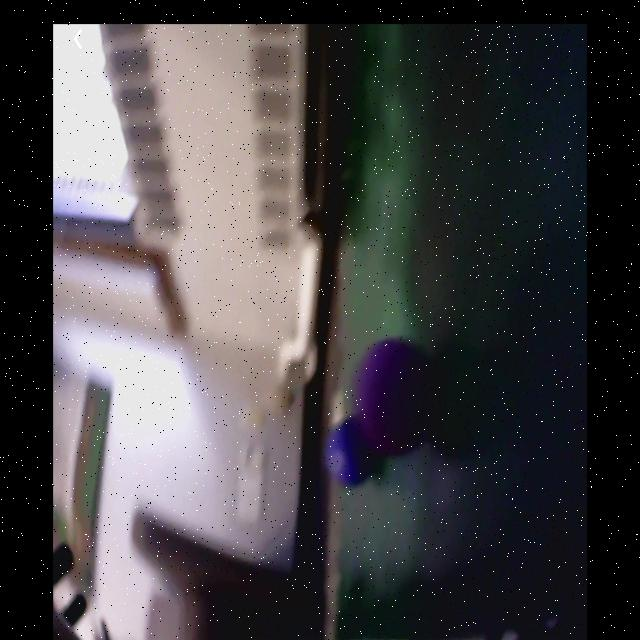ball: (357, 339, 439, 455), (329, 421, 380, 488)
